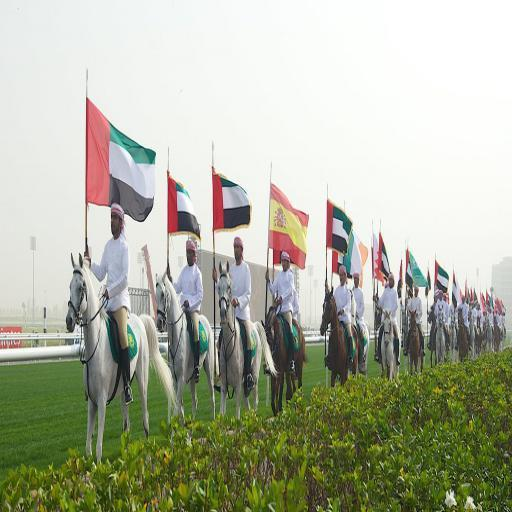horse: (64, 250, 178, 462), (154, 264, 218, 426), (218, 260, 280, 420), (259, 304, 311, 418), (427, 302, 505, 370), (319, 286, 359, 384), (378, 304, 398, 376), (407, 304, 421, 376)
